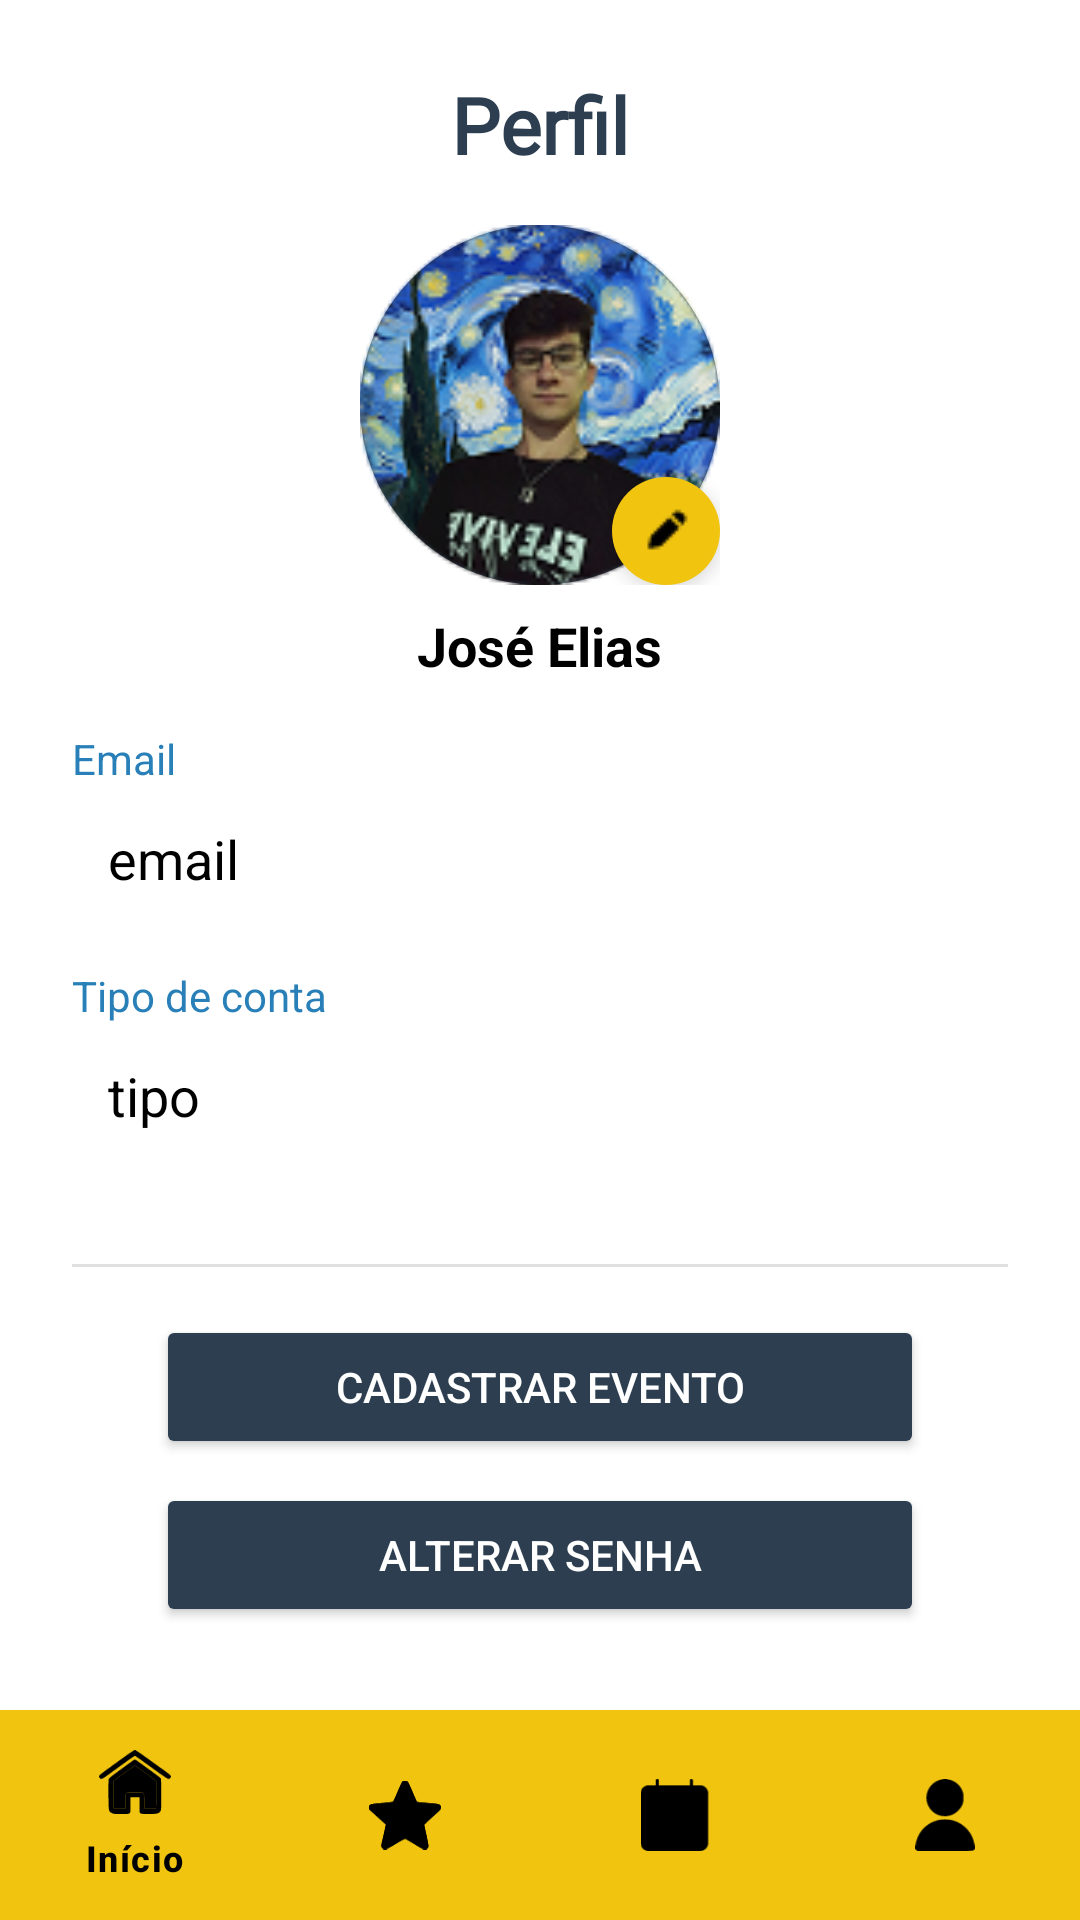

Named icons in this screenshot (1080w x 1920h) and their centers, point (x, y):
Editar foto: point (666, 531)
